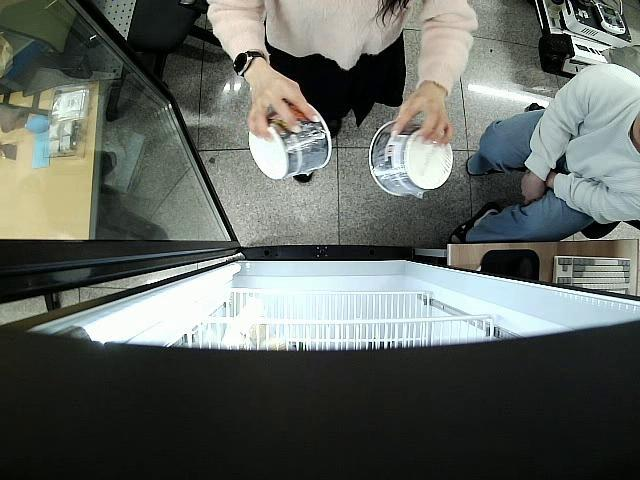07_buldak_L: (368, 120, 452, 197), (250, 102, 331, 180)
